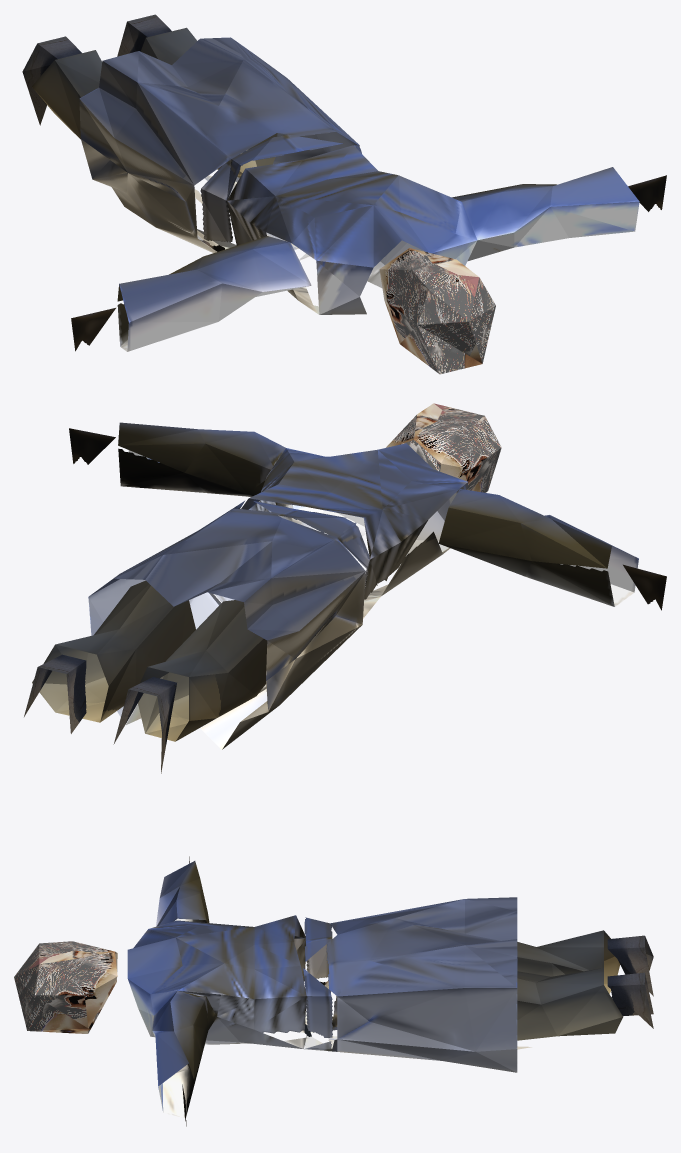
The model's file is scientistoldlow_wtf.obj.
The picture shows the model from 3 angles, top to bottom: view 1: azimuth 30°, elevation 25°; view 2: azimuth 150°, elevation 25°; view 3: azimuth 270°, elevation 25°; orthographic projection. The views are drawn at different scales.
Parts seen in each view (by area): view 1: group1, group3, group2; view 2: group1, group3, group2; view 3: group1, group3, group2.
Part boxes in pixels (<box>): group1: <box>32,27,666,351</box>; group3: <box>379,248,495,374</box>; group2: <box>22,14,171,125</box>; group1: <box>32,422,666,749</box>; group3: <box>386,403,501,492</box>; group2: <box>24,654,176,773</box>; group1: <box>127,856,622,1126</box>; group3: <box>14,941,117,1033</box>; group2: <box>607,935,653,1028</box>.
Size of the model in its own units: 587 by 159 by 660.
